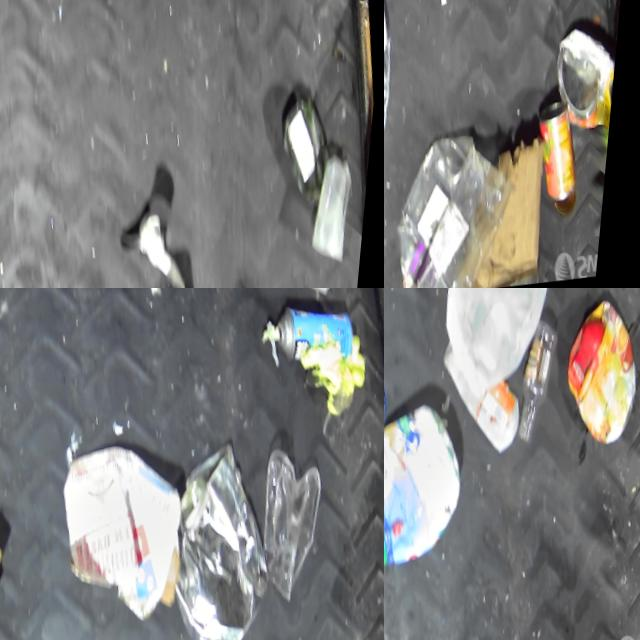can: (551, 17, 625, 135), (384, 37, 409, 133)
milk_jug: (426, 288, 582, 393)
non_white_jug: (384, 397, 483, 571)
